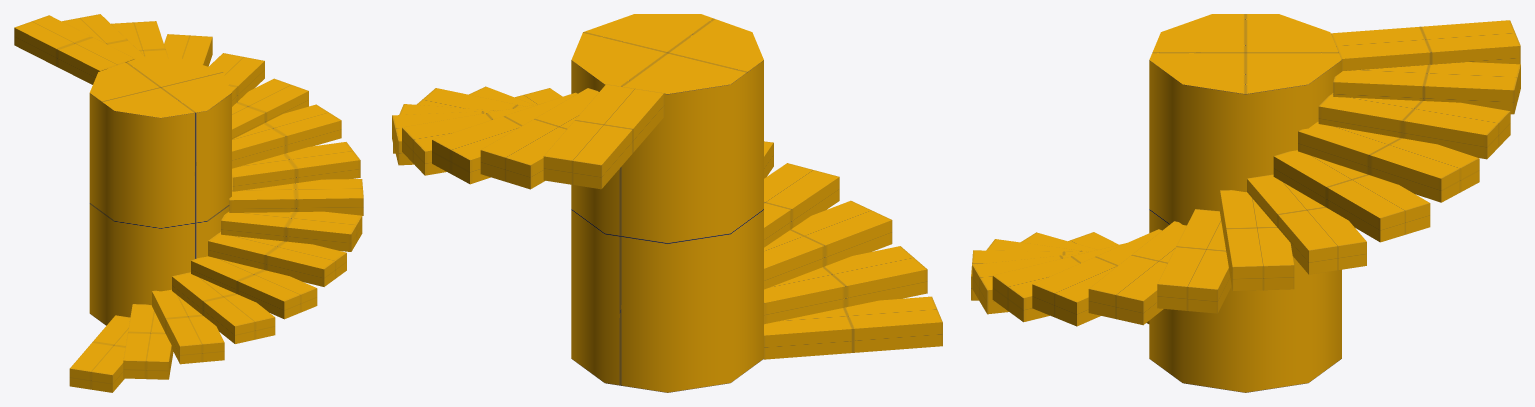
Rendered from StairsRounded.fbx.
3 views of the same model, side by side, from view 1: azimuth 30°, elevation 25°; view 2: azimuth 150°, elevation 25°; view 3: azimuth 270°, elevation 25° (orthographic). The views are drawn at different scales.
Visible parts, largest first — view 1: StairsRounded; view 2: StairsRounded; view 3: StairsRounded.
Part boxes in pixels (bbox=[...]): StairsRounded: bbox=[14, 14, 363, 392]; StairsRounded: bbox=[392, 14, 942, 392]; StairsRounded: bbox=[971, 14, 1520, 392].
Size of the model in its own units: 22.6 by 14.84 by 24.6.
